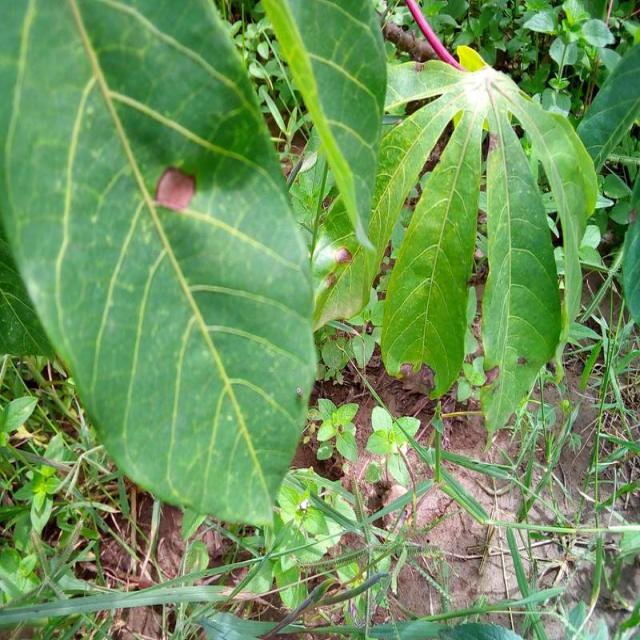cassava leaf: (0, 0, 318, 534), (376, 42, 599, 444), (260, 0, 388, 252)
